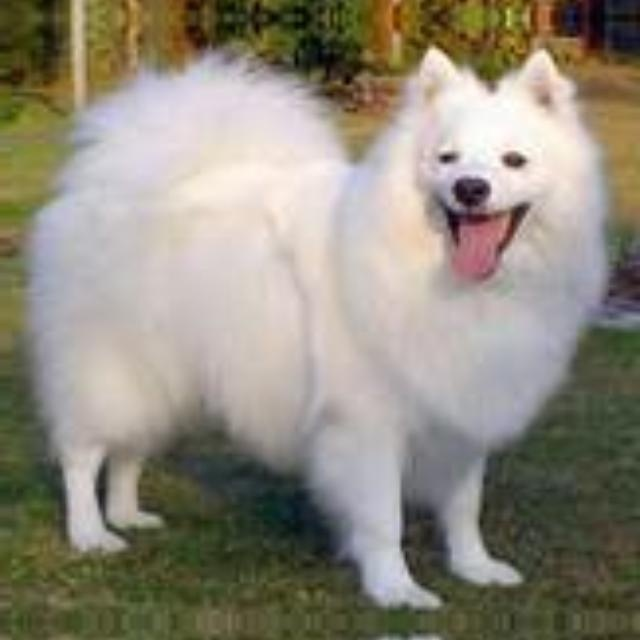dog: (20, 34, 594, 602)
